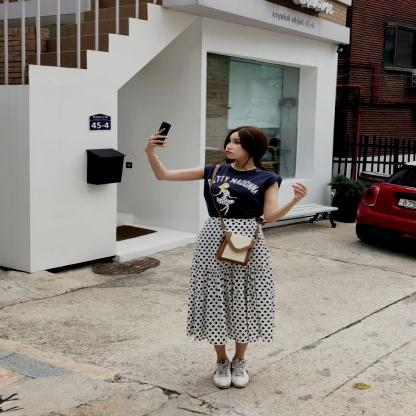dress: (192, 216, 274, 340)
jacket: (202, 163, 280, 218)
